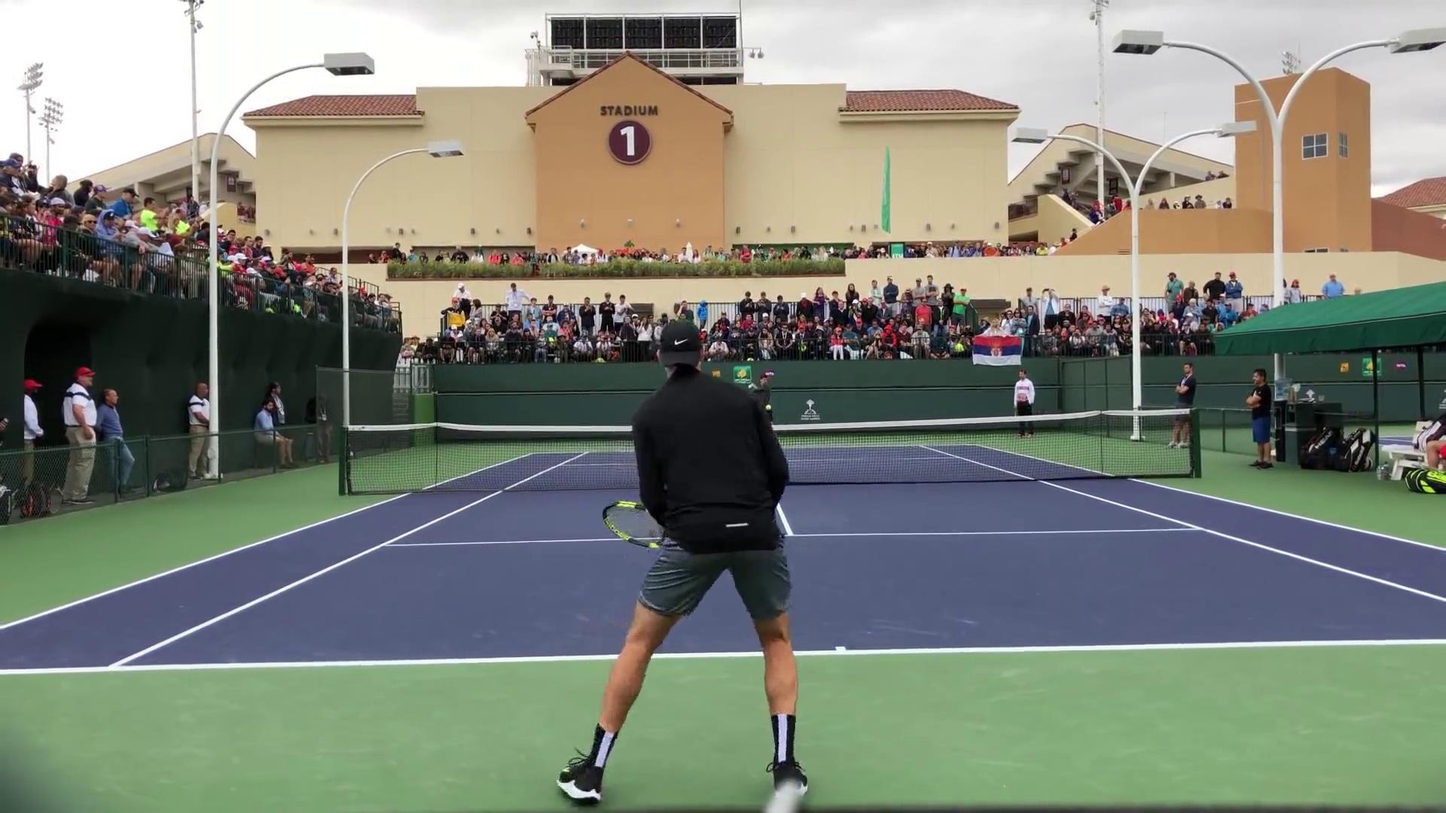ball: (764, 405, 774, 411)
